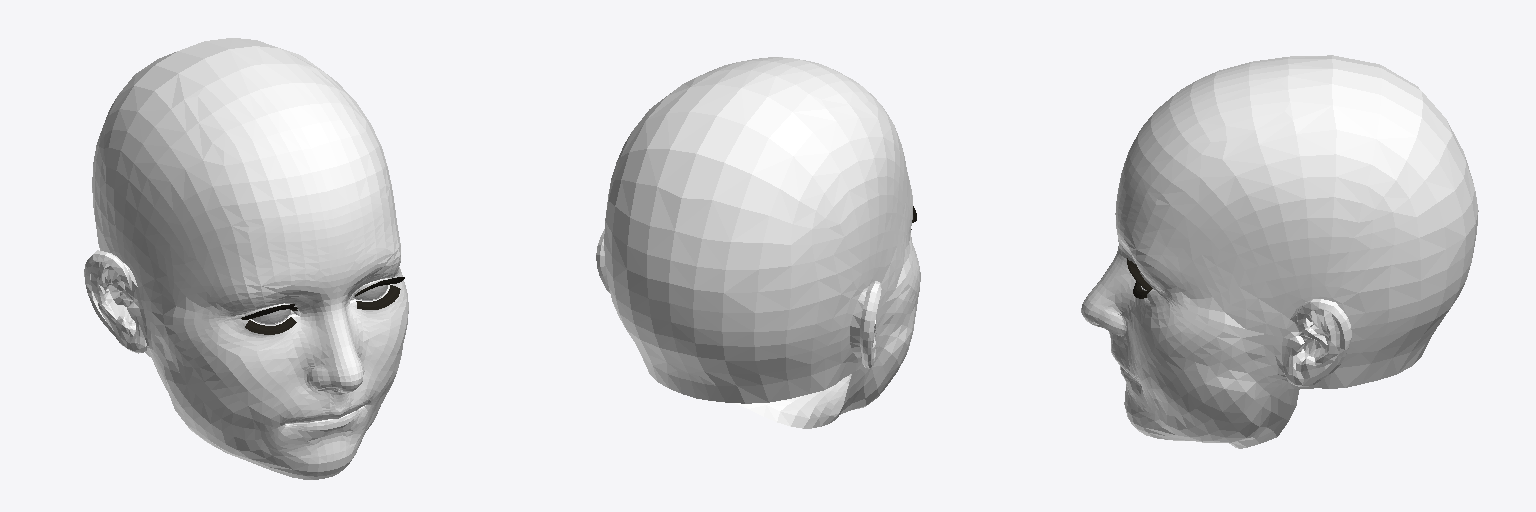
File: xxFat.obj
3 views of the same model, side by side, from view 1: azimuth 30°, elevation 25°; view 2: azimuth 150°, elevation 25°; view 3: azimuth 270°, elevation 25° (orthographic).
Visible parts, largest first — view 1: Genesis2Female; view 2: Genesis2Female; view 3: Genesis2Female.
Boxes of the visible parts, box(x1,y1,x2,y2) form: Genesis2Female: box(84, 38, 408, 479); Genesis2Female: box(596, 57, 920, 428); Genesis2Female: box(1081, 55, 1478, 448).
Bounding box in the file's own units: 18.04 × 23.22 × 22.3.